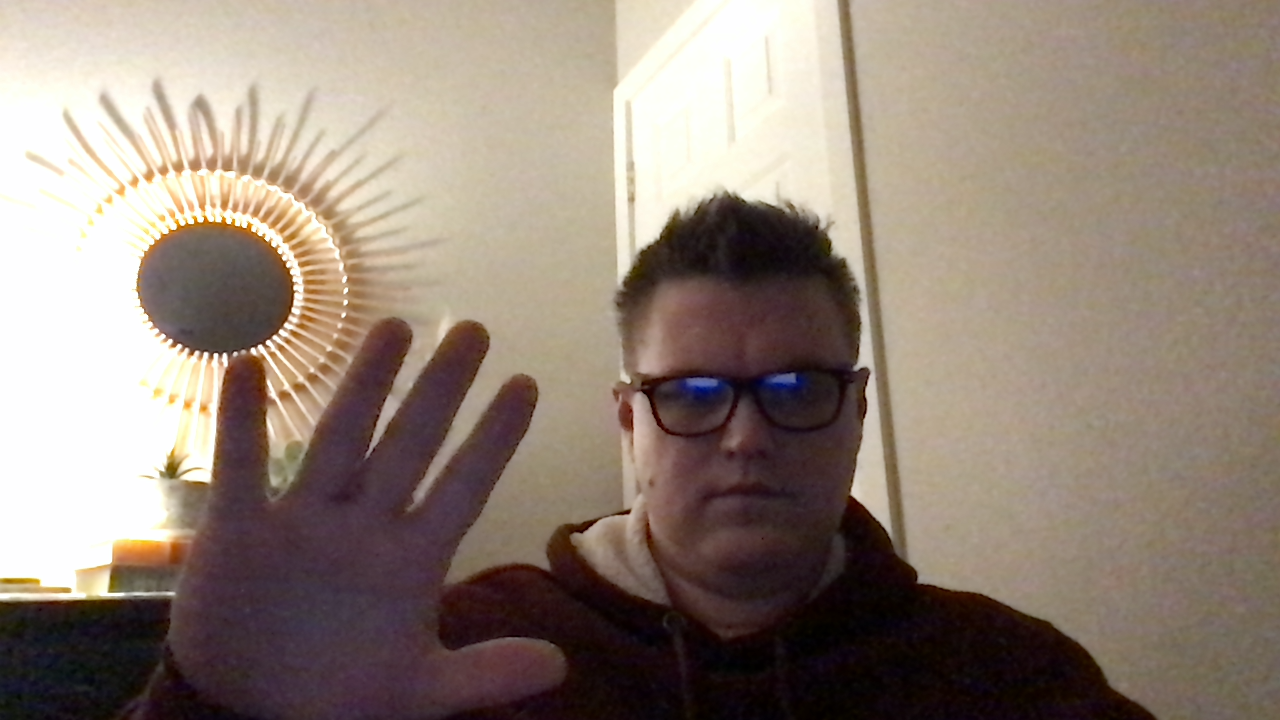hello: (153, 313, 575, 720)
